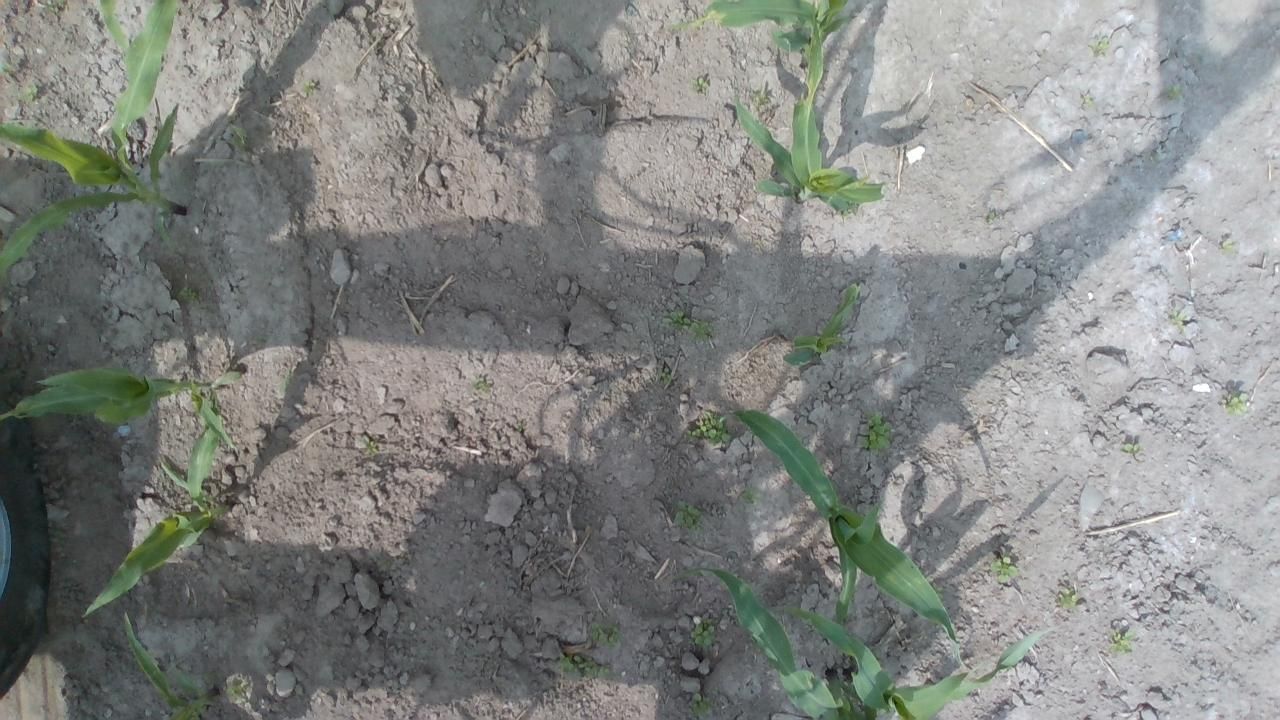Maize: (716, 406, 970, 670), (0, 0, 188, 270), (773, 600, 1052, 720), (674, 565, 886, 720), (730, 15, 887, 216), (76, 409, 222, 617), (0, 365, 240, 449), (662, 0, 851, 72), (120, 610, 213, 720), (779, 282, 861, 366)
Weeds: (684, 411, 735, 446), (554, 652, 612, 677), (857, 411, 893, 451), (671, 500, 706, 532), (988, 552, 1018, 584), (589, 620, 622, 648), (689, 617, 718, 648), (224, 121, 252, 152), (661, 307, 693, 333), (224, 675, 253, 703), (1221, 389, 1249, 416), (1107, 629, 1134, 654), (690, 692, 715, 716), (749, 86, 773, 109), (1057, 587, 1079, 612), (690, 320, 714, 342), (739, 485, 760, 506), (18, 85, 41, 104), (1168, 308, 1186, 332), (1090, 36, 1108, 58), (360, 434, 378, 455), (1162, 83, 1182, 100), (178, 286, 199, 302), (44, 0, 66, 14), (280, 369, 292, 394), (1220, 237, 1236, 255), (659, 366, 674, 385), (0, 60, 16, 76), (692, 76, 708, 92), (1121, 442, 1142, 454), (842, 202, 858, 217), (300, 80, 316, 94), (473, 377, 489, 390), (932, 583, 944, 600), (204, 670, 218, 684), (378, 558, 392, 572), (1080, 95, 1096, 106), (252, 336, 265, 346), (986, 212, 996, 223), (668, 478, 676, 485)
